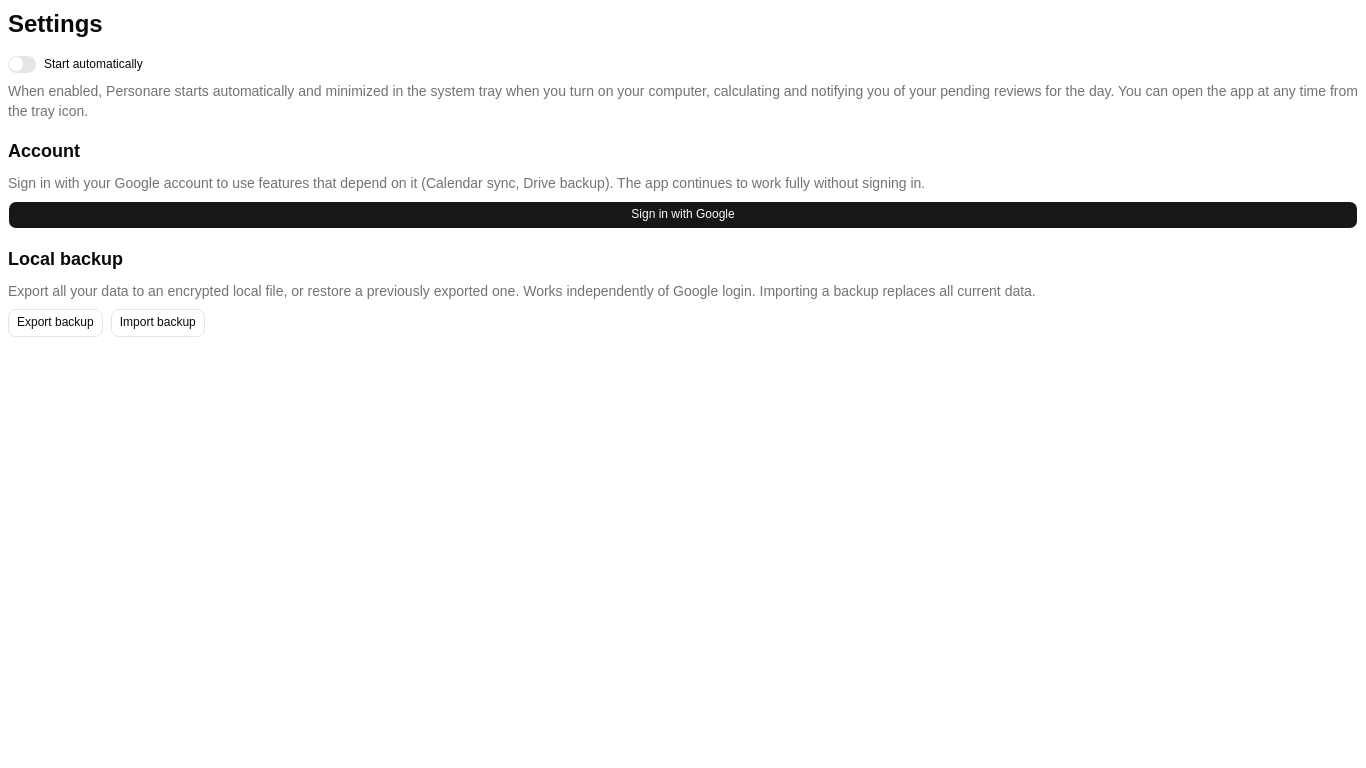
Test: SettingsPage backup section (Issue #21) › import › picks a file first, then opens the destructive-confirmation dialog with a warning
The image size is (1366, 768).
Click the button "Import backup" at [158, 323], box [111,309,205,337]
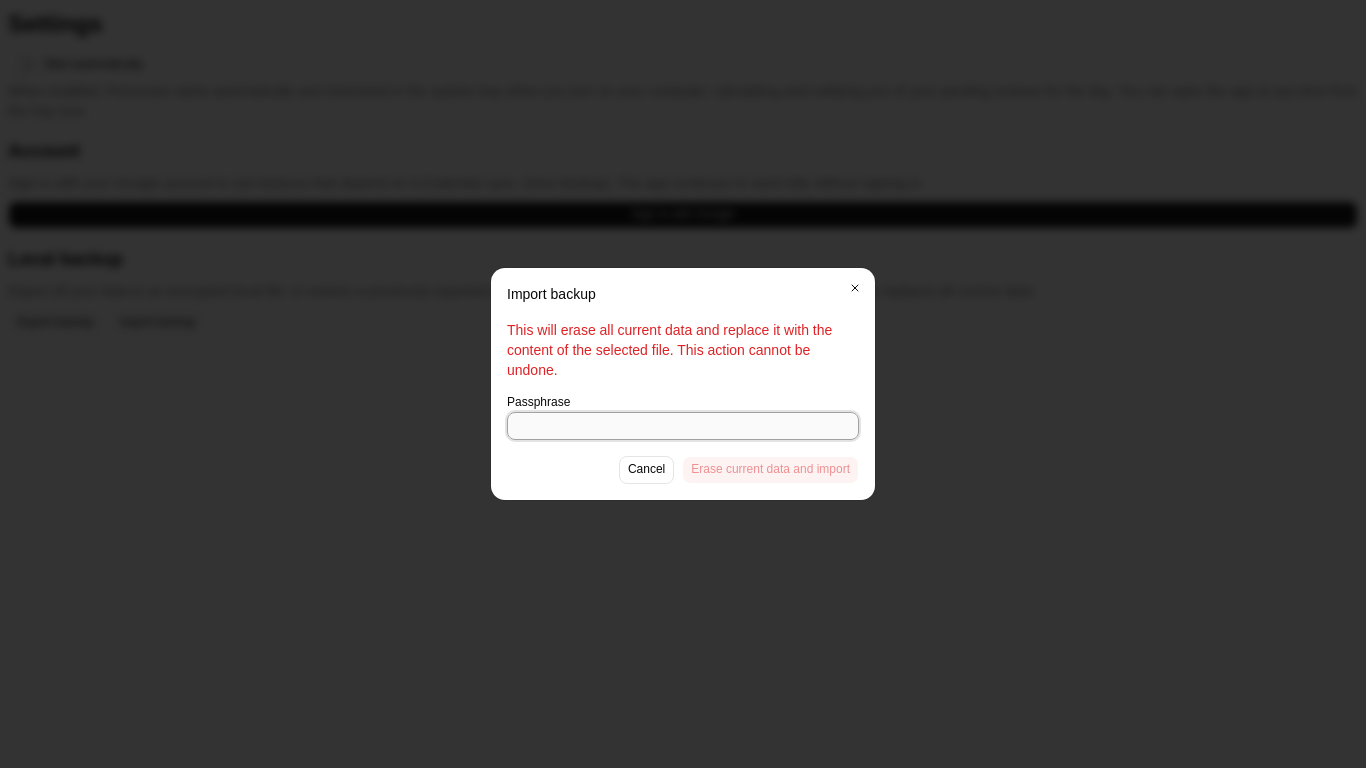
Result: the text "This will erase all current data and replace it with the content of the selected file. This action cannot be undone." is shown at [507,322,832,378]
